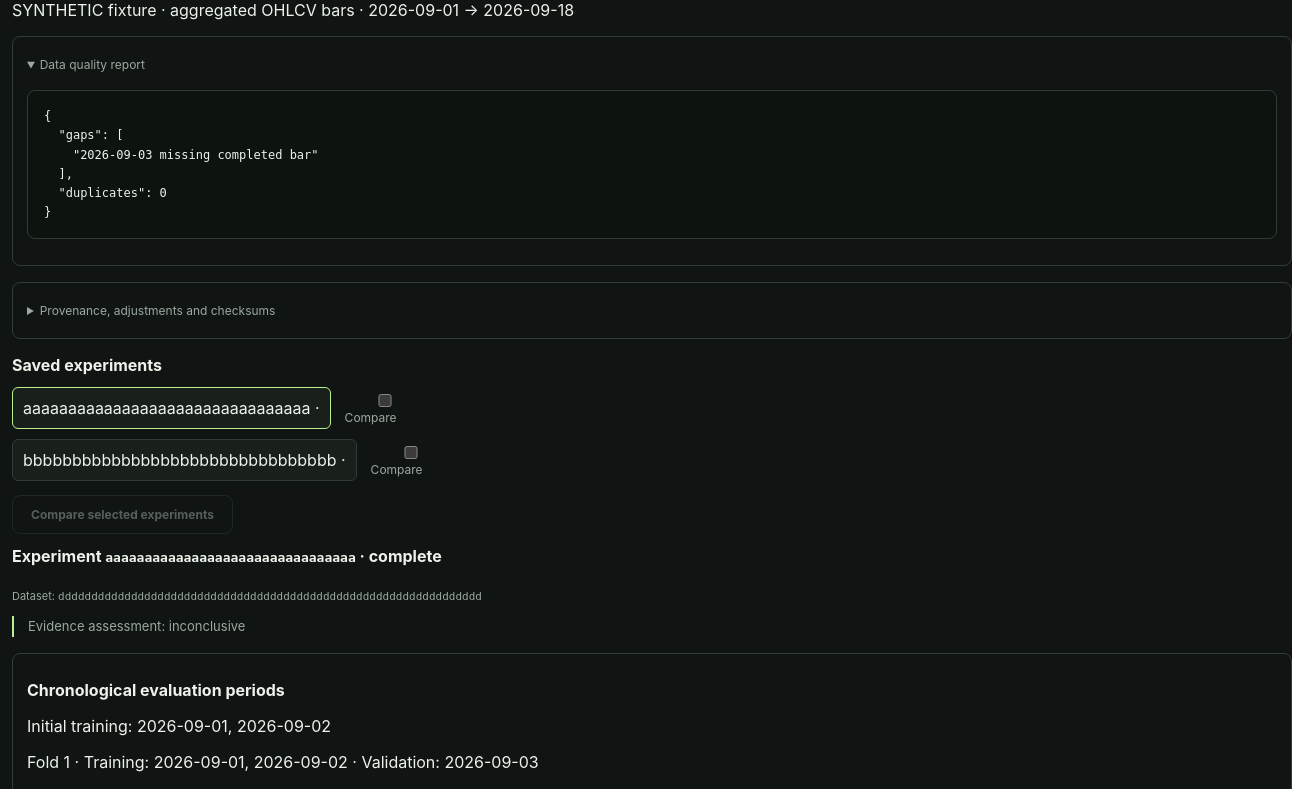
compares compatible experiments in a metric table with a shared dataset reference
(page scrolled)
expect the text "Evidence assessment: inconclusive" is shown: met, box 12,616 -> 1291,637
Click the 1st checkbox labelled "Compare" at (385,401), box 349,394 -> 421,407
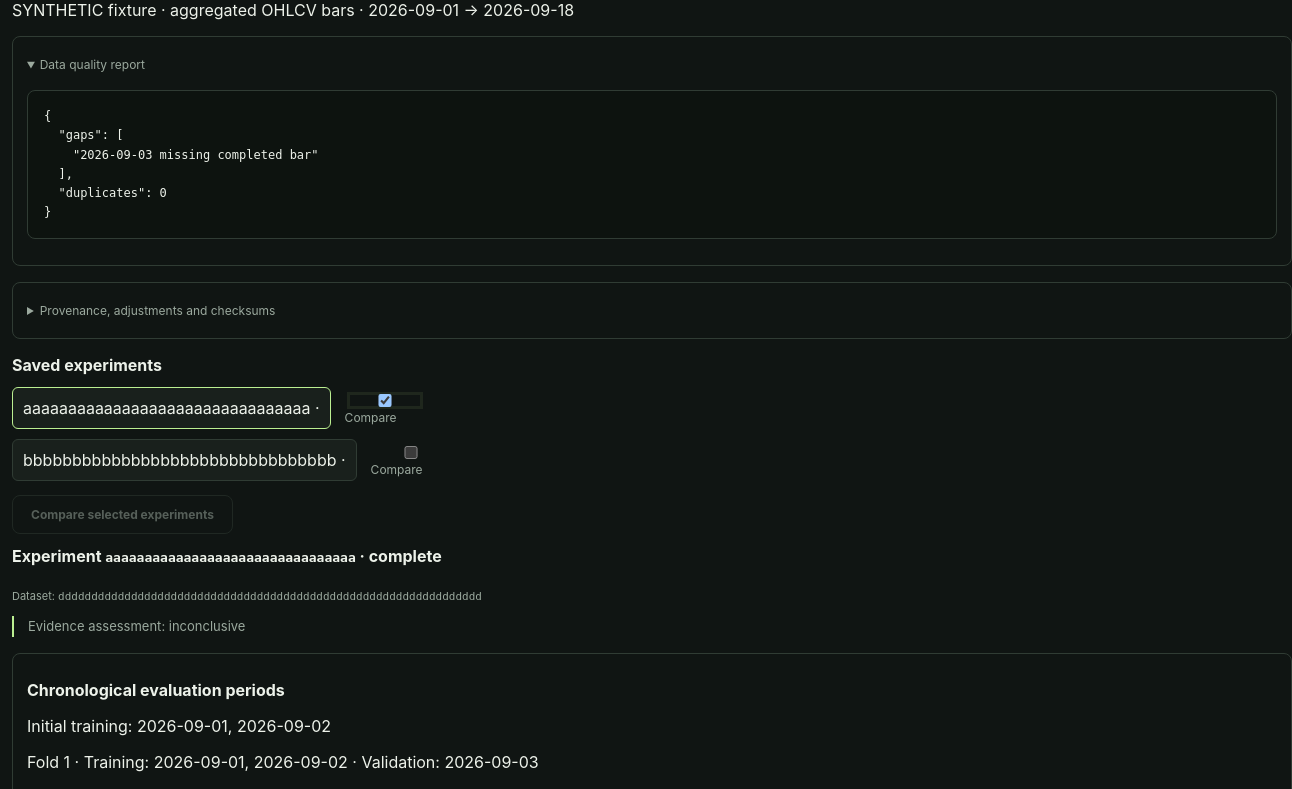
Click the 2nd checkbox labelled "Compare" at (411,453), box 375,446 -> 447,459
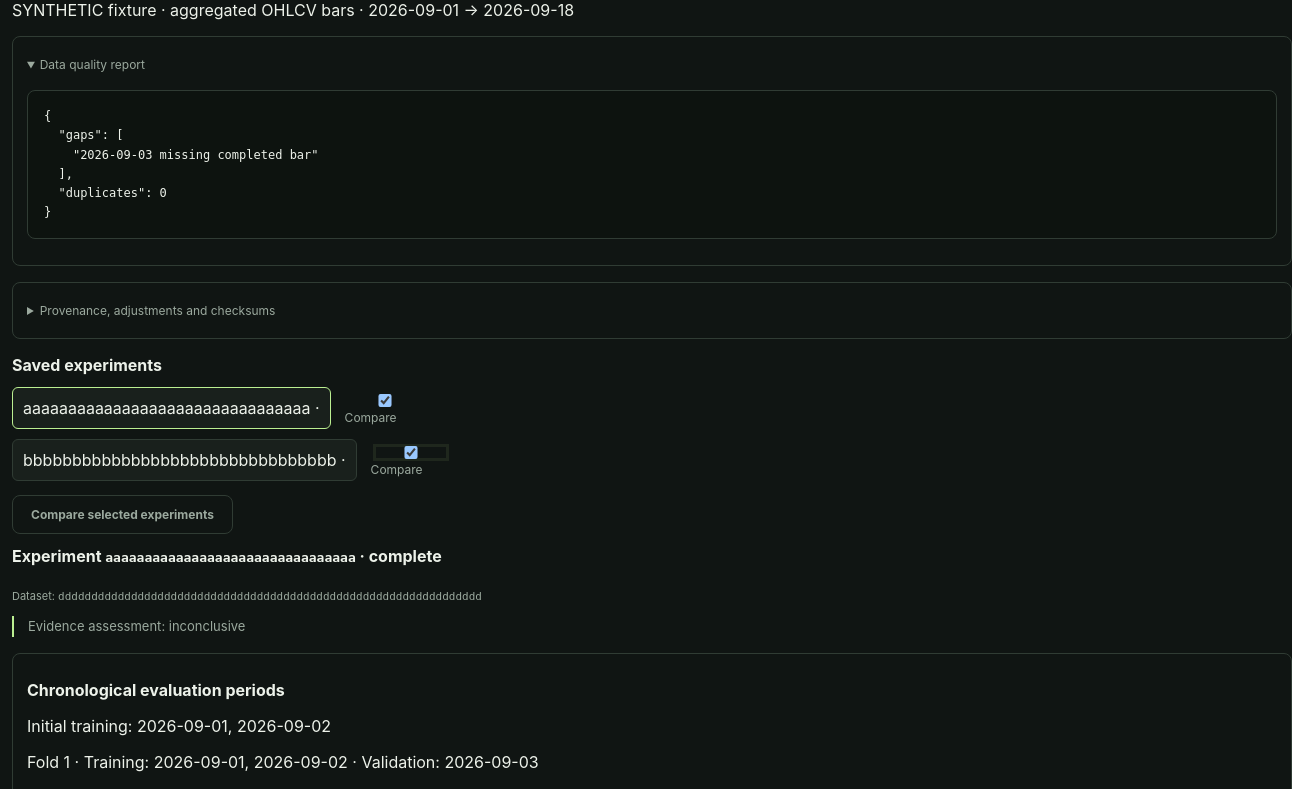
Click the button "Compare selected experiments" at (122,515), box 12,495 -> 233,534
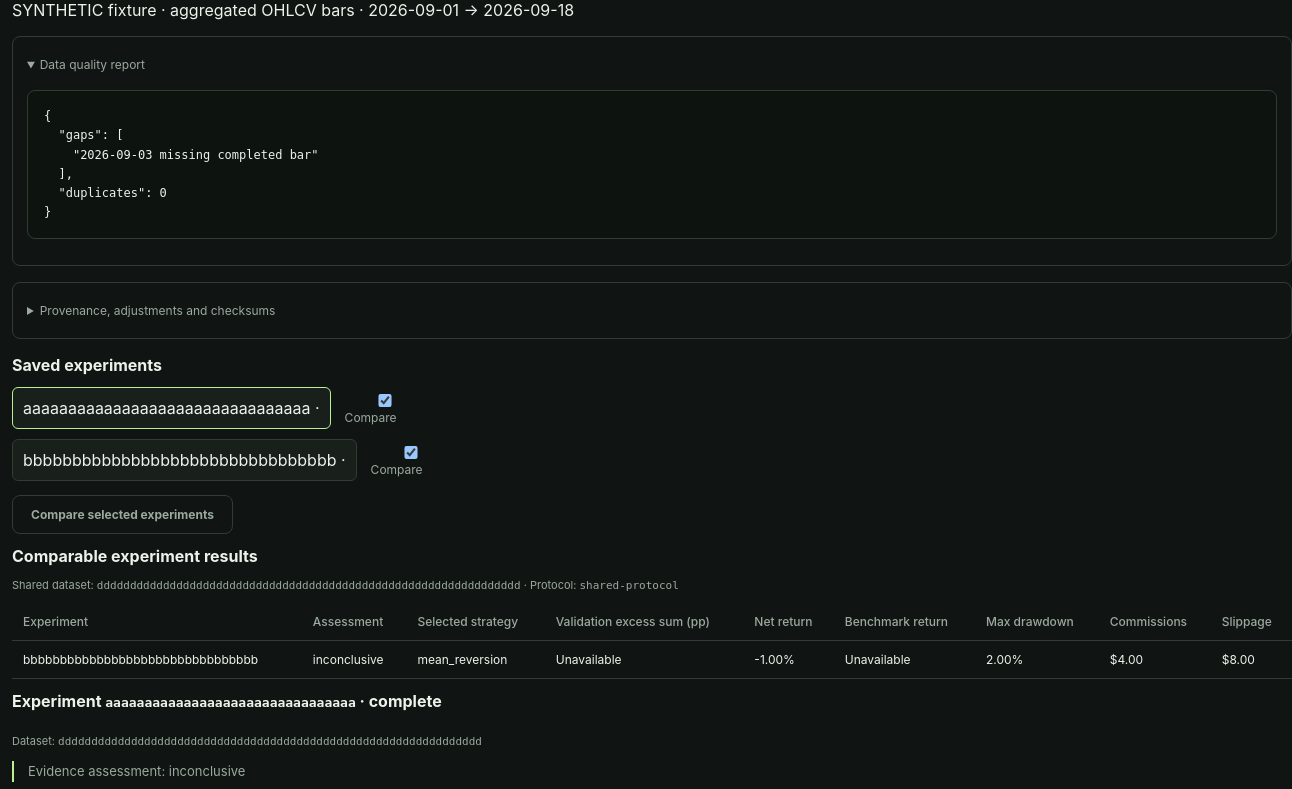
expect the text "shared-protocol" is shown: met, box 580,579 -> 679,592
expect the cell "mean_reversion" is shown: met, box 406,641 -> 545,679
expect the cell "-1.00%" is shown: met, box 743,641 -> 834,679
